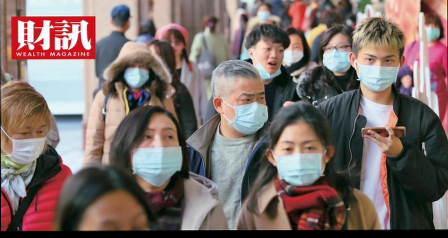mask_weared_incorrect: (253, 42, 284, 77)
with_mask: (130, 124, 183, 188), (274, 136, 327, 187), (226, 88, 269, 137), (355, 51, 400, 93), (7, 121, 46, 166), (322, 38, 352, 72), (123, 61, 151, 87), (282, 40, 305, 67), (424, 20, 442, 43)
without_mask: (164, 36, 186, 55)
